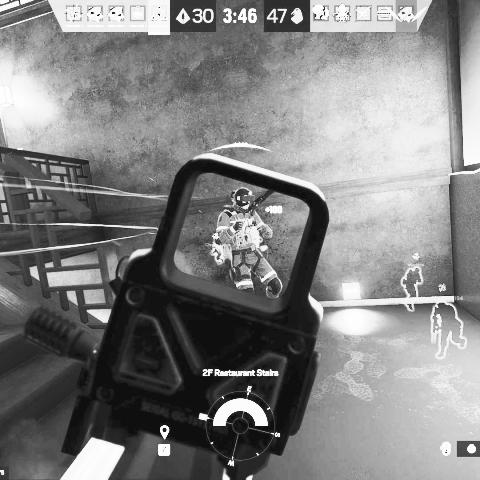Character: (213, 184, 286, 300)
Friend_label: (422, 283, 462, 301), (408, 252, 423, 268)
Head: (233, 186, 253, 211)
